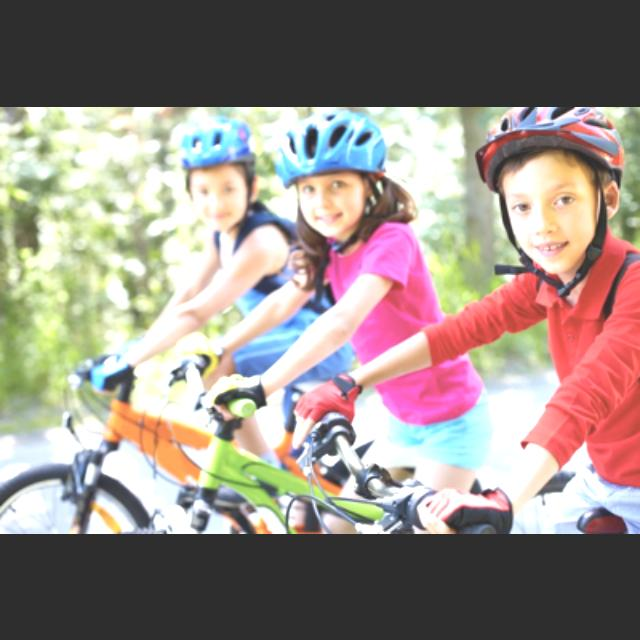With Helmet: (475, 109, 625, 275), (270, 116, 392, 242)
